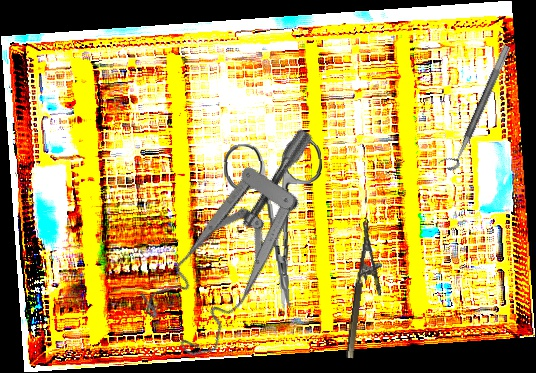Fixation Ring: (437, 39, 512, 174)
Iris Scissors: (222, 138, 332, 312)
Needle Holder: (344, 220, 391, 362)
Speculum: (107, 123, 383, 372)
